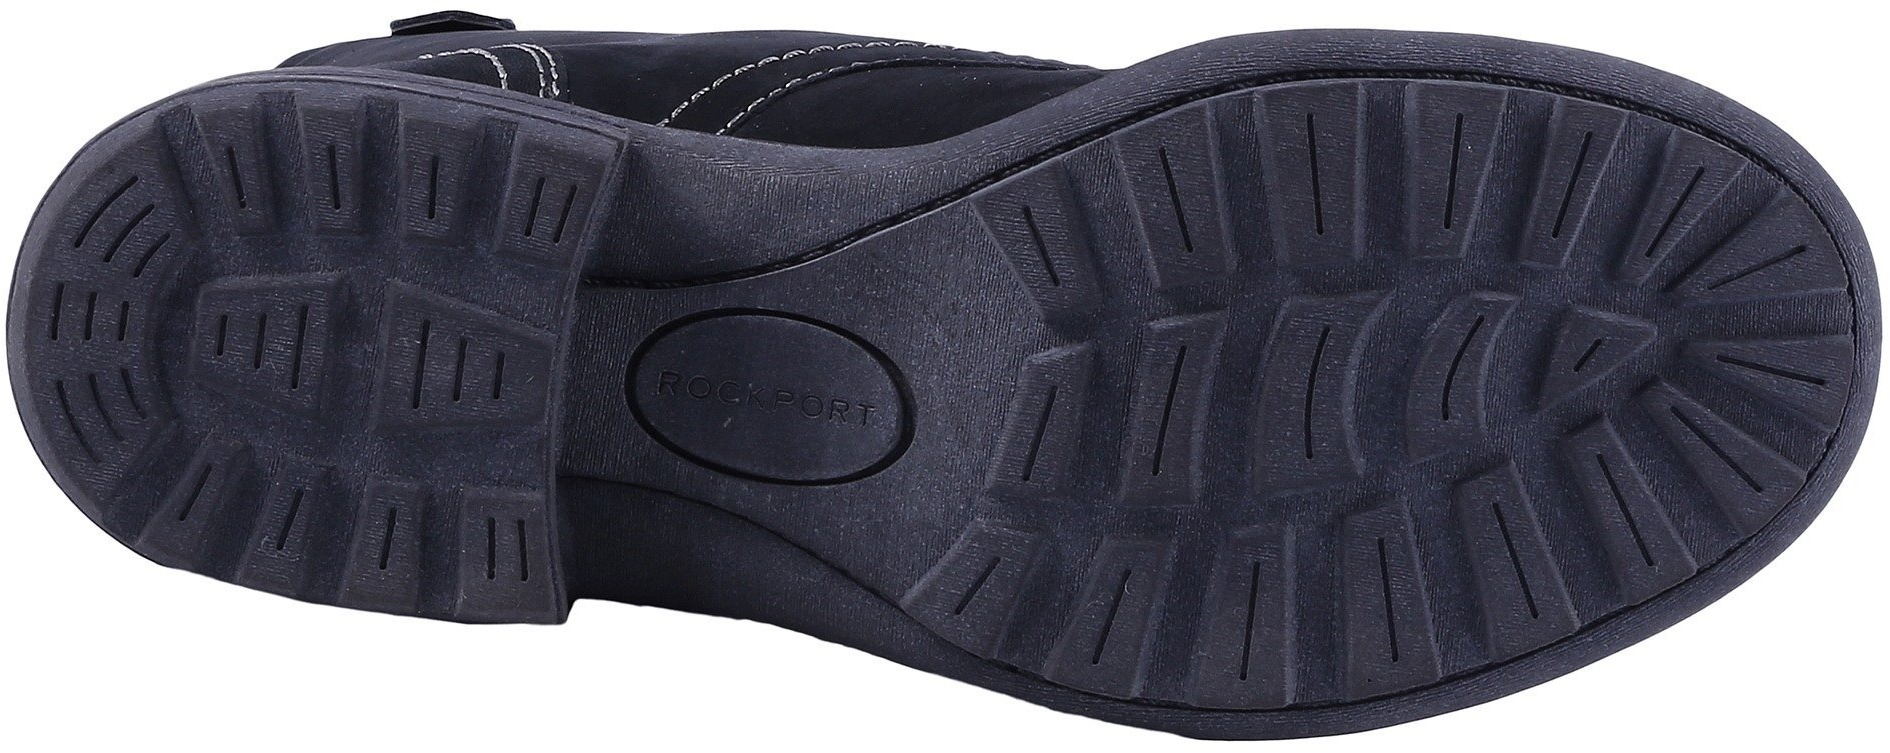line: (1493, 154, 1863, 492), (1242, 273, 1524, 500), (1178, 483, 1422, 735), (1248, 48, 1503, 283), (112, 401, 335, 620)
quad: (1493, 154, 1863, 492), (1254, 217, 1606, 559), (204, 99, 460, 386), (1242, 273, 1524, 500), (1178, 483, 1422, 735), (1248, 48, 1503, 283), (112, 401, 335, 620), (1029, 310, 1233, 537)
triangle: (1493, 154, 1863, 492)
